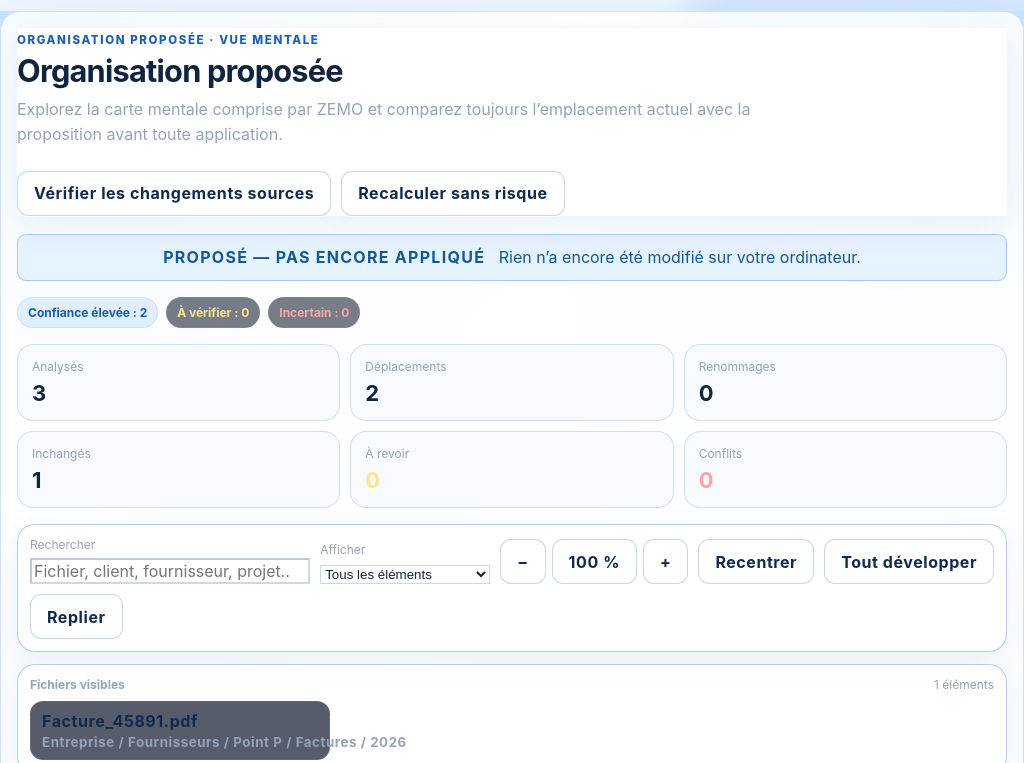
Milestone 12.3 radical simplification + error recovery › shows a user-level Apply path without raw Rust preflight wording
Click the text "Facture_45891.pdf" at [120, 721], box [42,711,198,731]
(page scrolled)
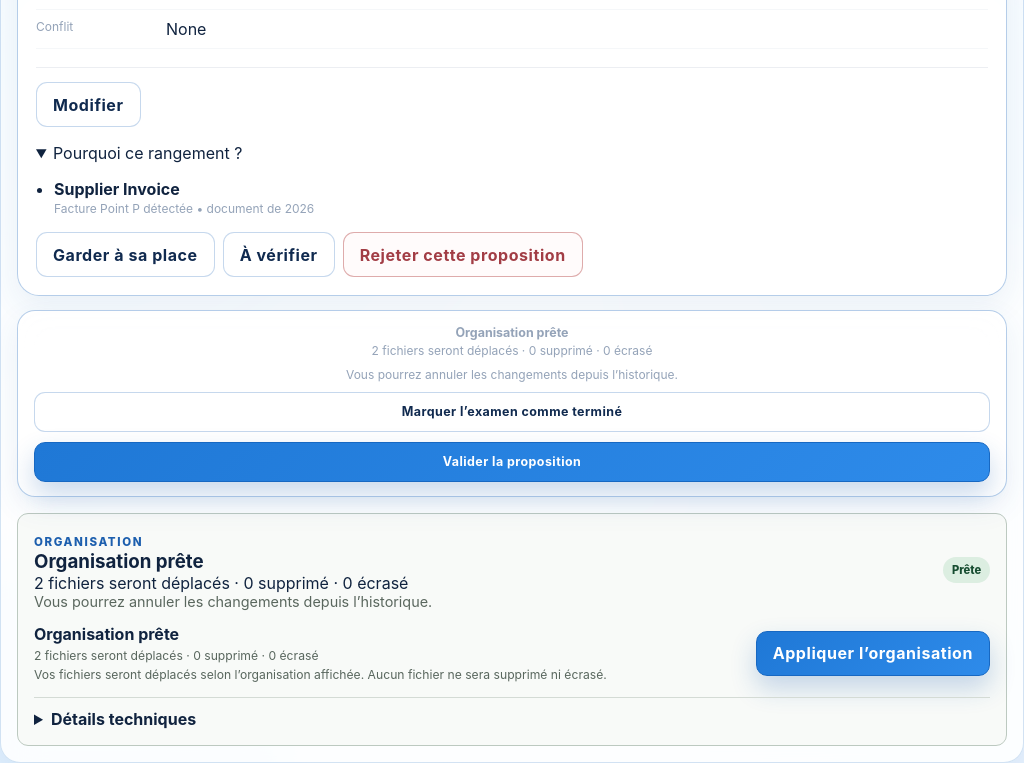
Click the heading "Détails techniques" at [124, 719], box [51,709,196,729]
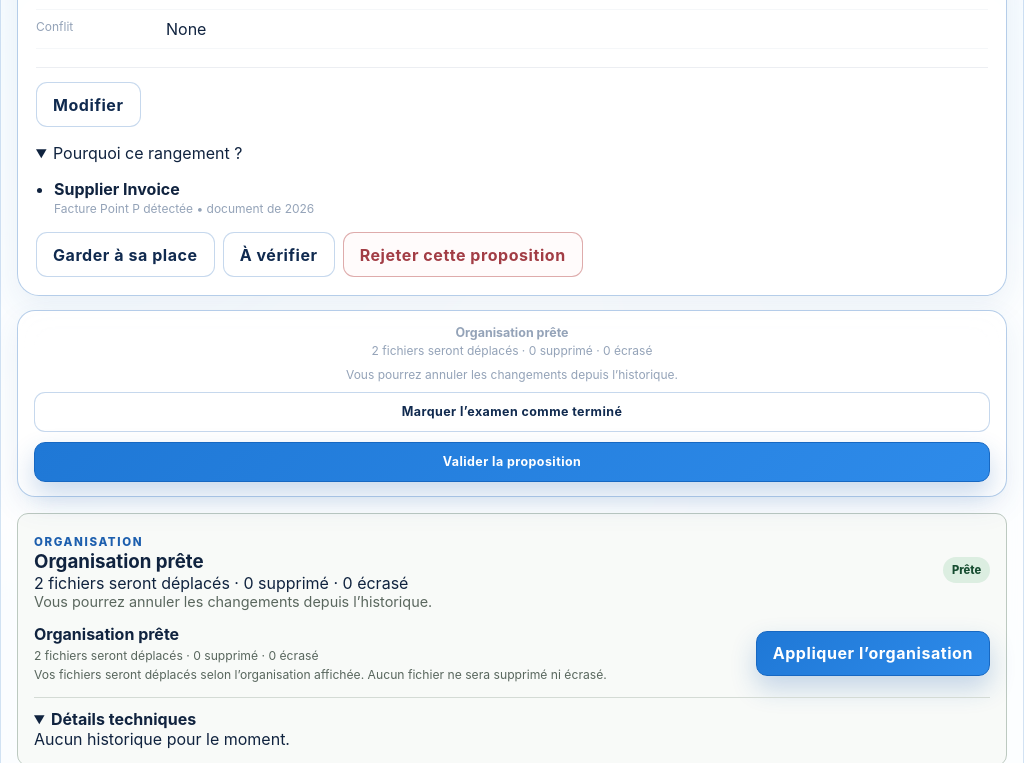
Now the text "Aucun historique pour le moment." is shown, box [34,729,290,749]
